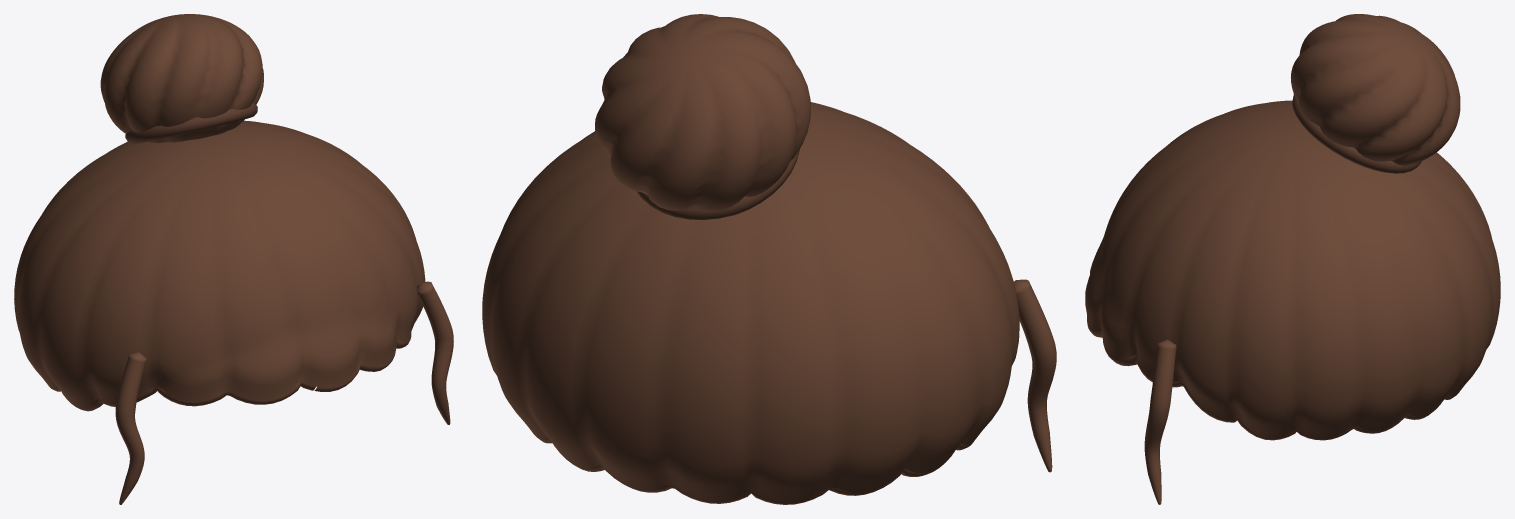
Rendered from hair_g_updo.glb.
The picture shows the model from 3 angles, left to right: view 1: azimuth 30°, elevation 25°; view 2: azimuth 150°, elevation 25°; view 3: azimuth 270°, elevation 25°; orthographic projection. The views are drawn at different scales.
Parts seen in each view (by area): view 1: Hair_G_UPDO; view 2: Hair_G_UPDO; view 3: Hair_G_UPDO.
Part boxes in pixels (left/top/right/bottom): Hair_G_UPDO: left=14, top=14, right=453, bottom=504; Hair_G_UPDO: left=482, top=14, right=1056, bottom=504; Hair_G_UPDO: left=1085, top=14, right=1500, bottom=504.
Bounding box in the file's own units: 0.5961 × 0.5852 × 0.5564.
